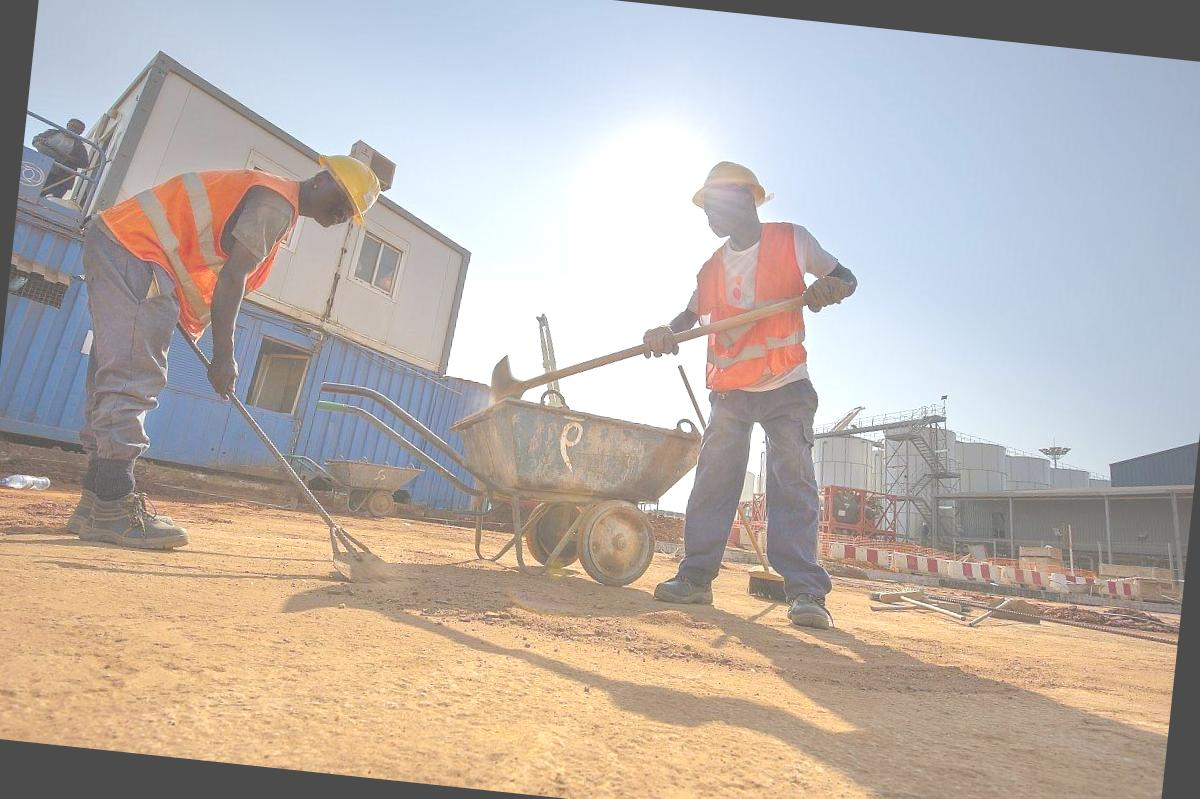helmet: (693, 162, 772, 207), (331, 148, 381, 218)
person: (38, 128, 390, 568), (641, 150, 868, 631)
